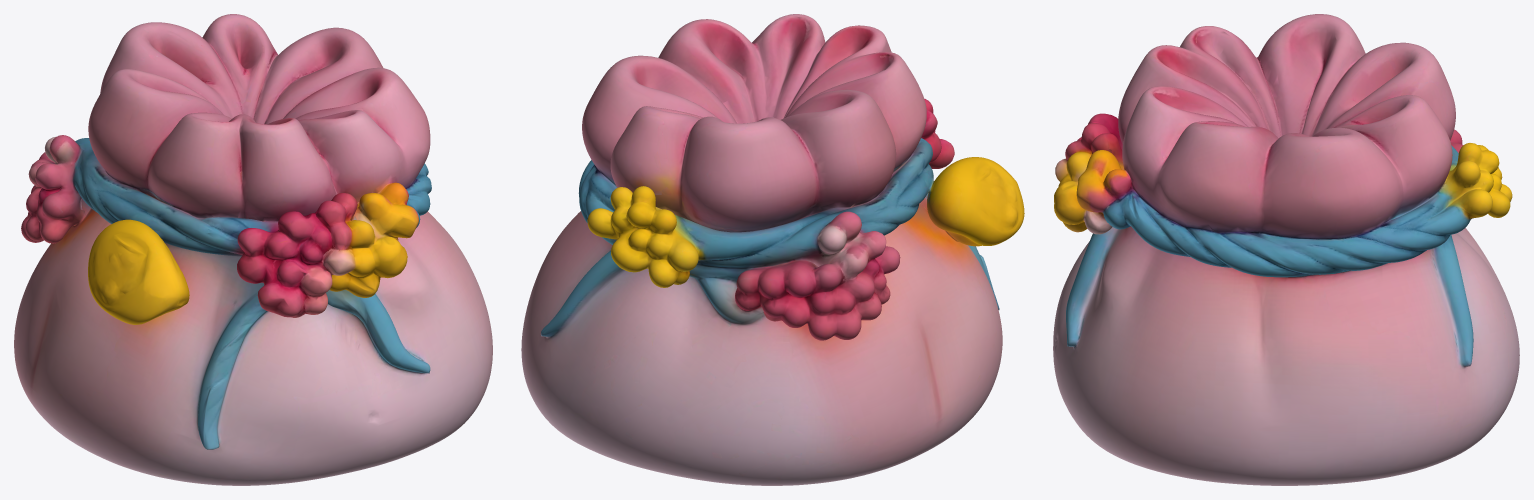
3 views of the same model, side by side, from view 1: azimuth 30°, elevation 25°; view 2: azimuth 150°, elevation 25°; view 3: azimuth 270°, elevation 25° (orthographic).
Parts seen in each view (by area): view 1: node_0; view 2: node_0; view 3: node_0.
Boxes of the visible parts, box(x1,y1,x2,y2) form: node_0: box(14, 14, 492, 485); node_0: box(521, 14, 1024, 485); node_0: box(1053, 14, 1519, 485).
Bounding box in the file's own units: 0.9764 × 0.7673 × 0.9759.
Materials: 1 (1 with a texture image).
